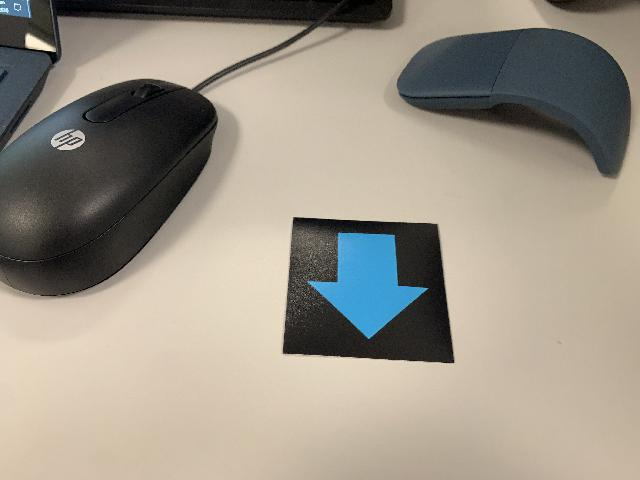down: (280, 215, 456, 363)
